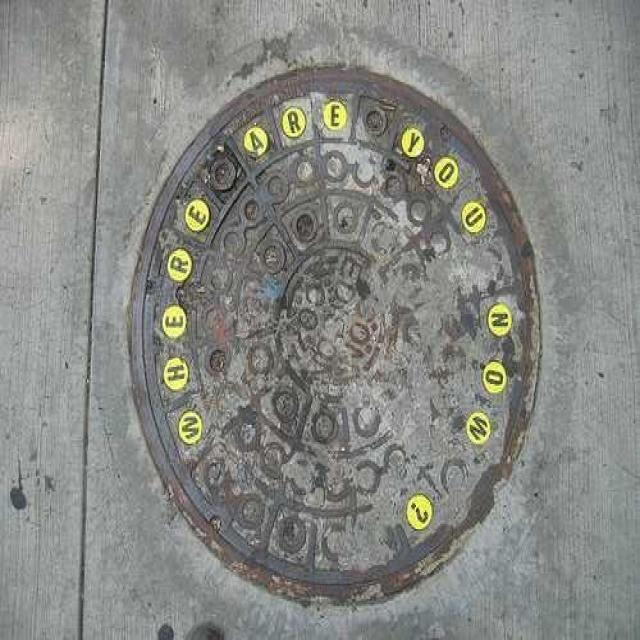manhole: (133, 68, 539, 599)
